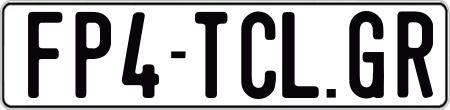4: (121, 12, 164, 102)
C: (241, 11, 282, 99)
F: (27, 12, 63, 104)
G: (349, 10, 384, 98)
L: (282, 12, 323, 98)
P: (72, 11, 109, 103)
R: (395, 10, 434, 97)
T: (195, 12, 233, 101)
